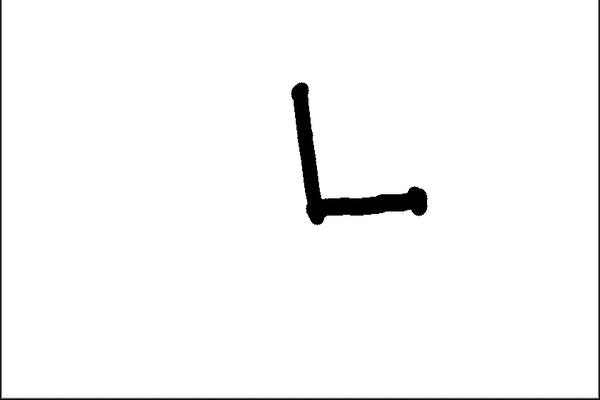L: (281, 74, 434, 235)
